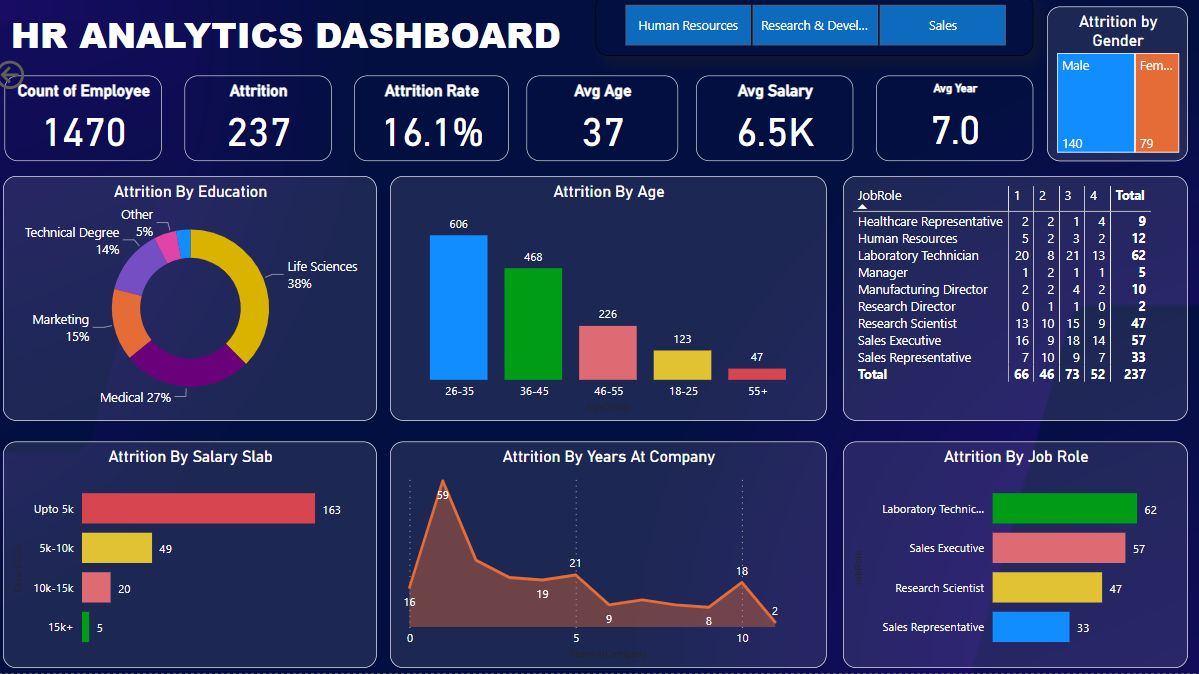

This screenshot's page, from the dashboard's own definition file:
{"tool":"powerbi","page":{"name":"Page 1","canvas":[1280,720],"ordinal":0},"visuals":[{"type":"card","title":"Count of Employee","fields":{"Values":["CountNonNull(HR_Analytics (2).EmpID)"]},"box":[14.3,87.4,166.9,90.6],"z":0},{"type":"card","title":"Attrition","fields":{"Values":["Sum(HR_Analytics (2).AttritionCount)"]},"box":[205,87.4,155.8,90.6],"z":1000},{"type":"card","title":"Attrition Rate","fields":{"Values":["HR_Analytics (2).AttritionRate"]},"box":[384.6,87.4,163.7,90.6],"z":2000},{"type":"card","title":"Avg Age","fields":{"Values":["Avg(HR_Analytics (2).Age)"]},"box":[567.4,87.4,160.5,90.6],"z":3000},{"type":"card","title":"Avg Salary ","fields":{"Values":["Avg(HR_Analytics (2).MonthlyIncome)"]},"box":[747,87.4,166.9,90.6],"z":4000},{"type":"card","title":"Avg Year","fields":{"Values":["Avg(HR_Analytics (2).YearsAtCompany)"]},"box":[937.7,87.4,166.9,90.6],"z":5000},{"type":"donutChart","title":"Attrition By Education","fields":{"Category":["HR_Analytics (2).EducationField"],"Y":["Sum(HR_Analytics (2).AttritionCount)"]},"box":[12.7,193.9,395.8,259.1],"z":6000},{"type":"columnChart","title":"Attrition By Age","fields":{"Category":["HR_Analytics (2).AgeGroup"],"Y":["CountNonNull(HR_Analytics (2).AttritionCount)"]},"box":[422.8,193.9,462.5,259.1],"z":7000},{"type":"pivotTable","fields":{"Rows":["HR_Analytics (2).JobRole"],"Columns":["HR_Analytics (2).JobSatisfaction"],"Values":["Sum(HR_Analytics (2).AttritionCount)"]},"box":[902.8,193.9,365.6,259.1],"z":8000},{"type":"actionButton","box":[0,66.4,100,40],"z":9000},{"type":"barChart","title":"Attrition By Salary Slab","fields":{"Category":["HR_Analytics (2).SalarySlab"],"Y":["Sum(HR_Analytics (2).AttritionCount)"]},"box":[12.7,475.2,395.8,240],"z":10000},{"type":"barChart","title":"Attrition By Job Role","fields":{"Category":["HR_Analytics (2).JobRole"],"Y":["Sum(HR_Analytics (2).AttritionCount)"]},"box":[902.8,475.2,365.6,240],"z":11000},{"type":"areaChart","title":"Attrition By Years At Company","fields":{"Category":["HR_Analytics (2).YearsAtCompany"],"Y":["Sum(HR_Analytics (2).AttritionCount)"]},"box":[422.8,475.2,462.5,240],"z":12000},{"type":"treemap","title":"Attrition by Gender","fields":{"Group":["HR_Analytics (2).Gender"],"Values":["Sum(HR_Analytics (2).AttritionCount)"]},"box":[1118.9,14.3,149.4,163.7],"z":13000},{"type":"slicer","fields":{"Values":["HR_Analytics (2).Department"]},"box":[640.5,0,464.1,66.8],"z":14000},{"type":"textbox","box":[15.9,11.1,637.4,74.7],"z":15000}]}

Visuals, with their boxes in screenshot pixels (x1, y1, x2, y2), scaled from the page's 1280x720 canvas onto the 1199x674 screenshot:
"Count of Employee" card: <box>13,82,170,167</box>
"Attrition" card: <box>192,82,338,167</box>
"Attrition Rate" card: <box>360,82,514,167</box>
"Avg Age" card: <box>531,82,682,167</box>
"Avg Salary " card: <box>700,82,856,167</box>
"Avg Year" card: <box>878,82,1035,167</box>
"Attrition By Education" donutChart: <box>12,182,383,424</box>
"Attrition By Age" columnChart: <box>396,182,829,424</box>
pivotTable - HR_Analytics (2).JobRole x HR_Analytics (2).JobSatisfaction: <box>846,182,1188,424</box>
actionButton: <box>0,62,94,100</box>
"Attrition By Salary Slab" barChart: <box>12,445,383,670</box>
"Attrition By Job Role" barChart: <box>846,445,1188,670</box>
"Attrition By Years At Company" areaChart: <box>396,445,829,670</box>
"Attrition by Gender" treemap: <box>1048,13,1188,167</box>
slicer - HR_Analytics (2).Department: <box>600,0,1035,63</box>
textbox: <box>15,10,612,80</box>
